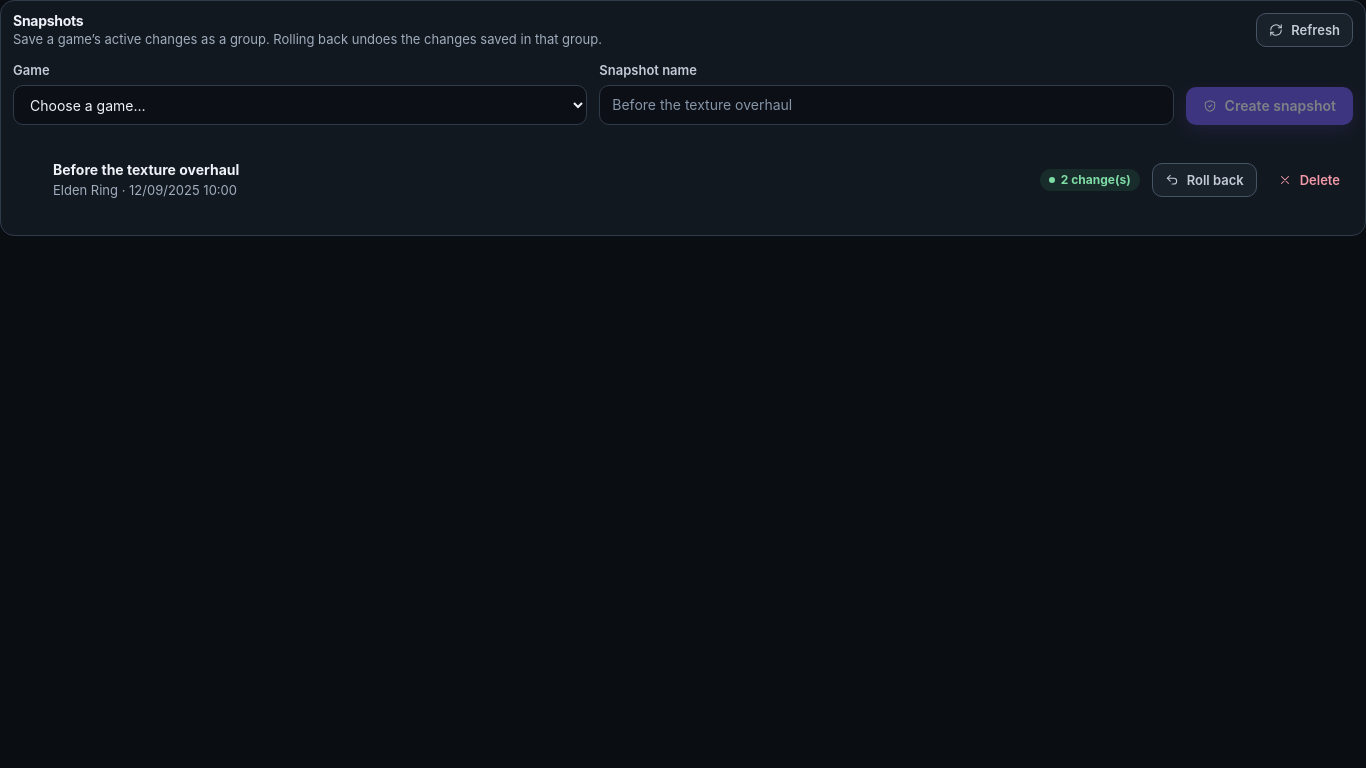
Test: SnapshotPanel — rolling back › asks first, names the snapshot, and never puts the focus on the confirm button
This screenshot has width=1366, height=768.
Click the button "Roll back". click: (1204, 180)
box: [1152,163,1257,197]
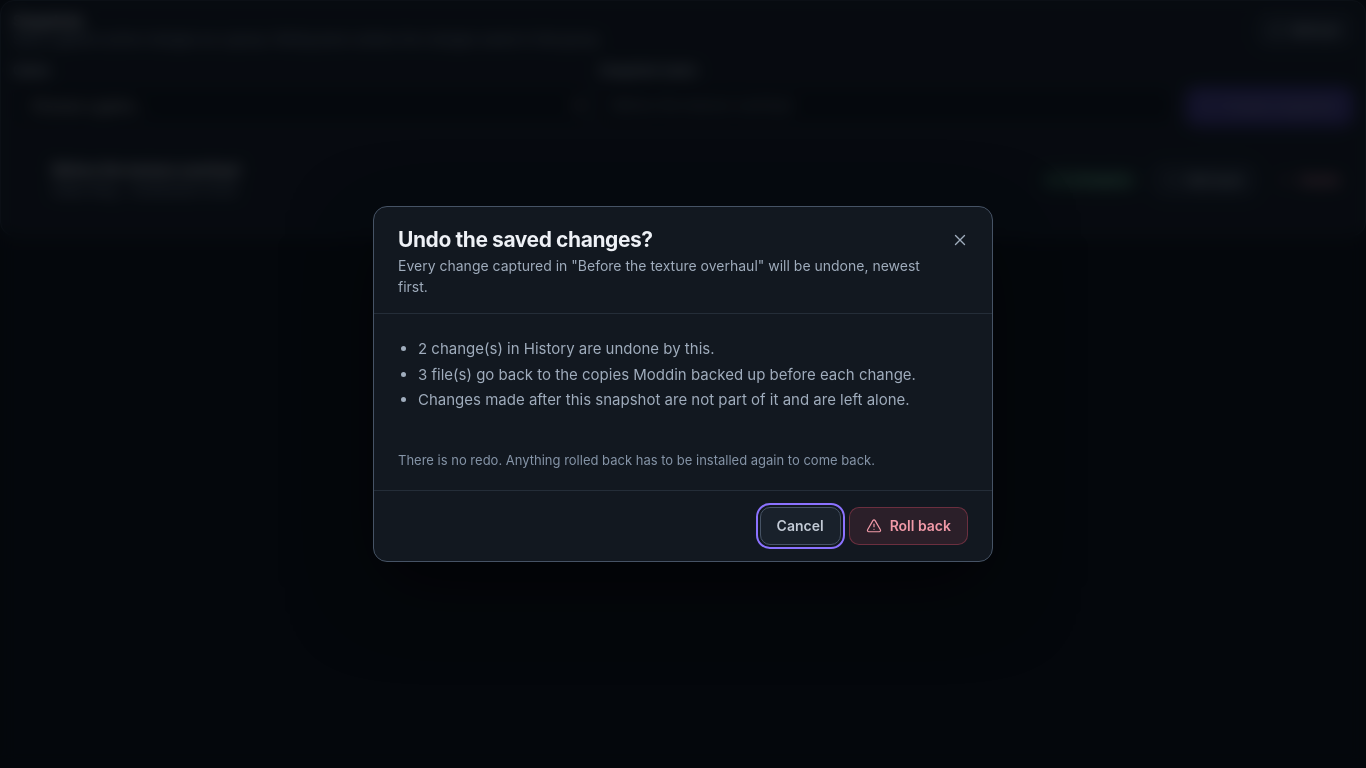
Expected: the dialog is shown, [373,206,993,562]
Expected: the dialog shows "Undo the saved changes?", [398,227,653,252]
Expected: the dialog shows "Before the texture overhaul", [398,257,920,295]
